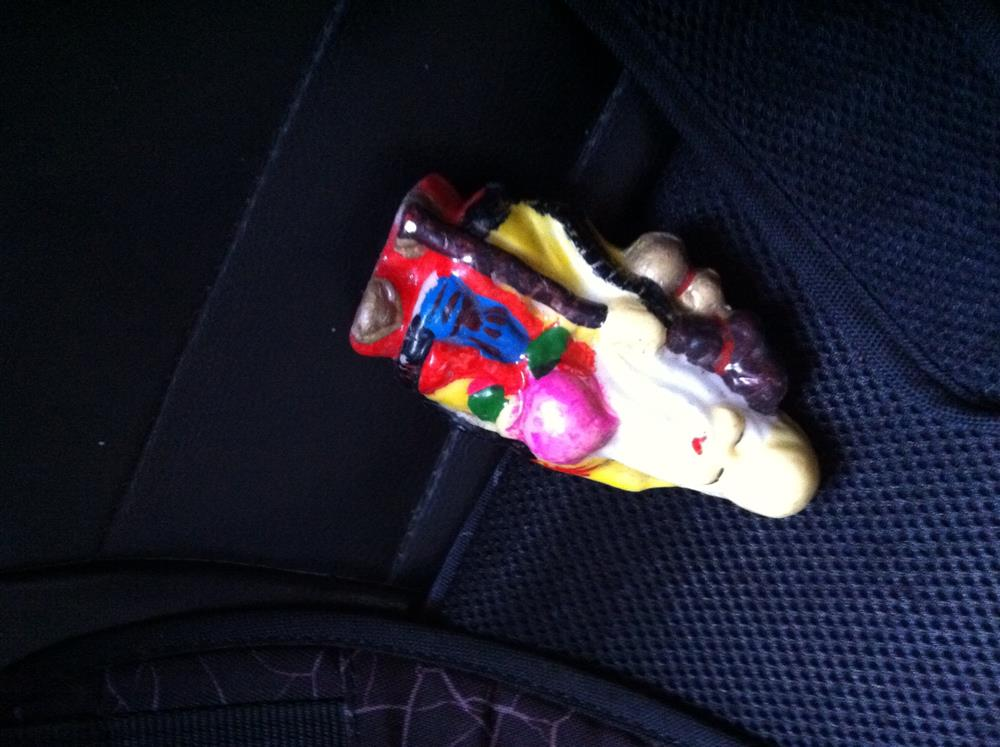oldman_candle: (346, 173, 825, 520)
